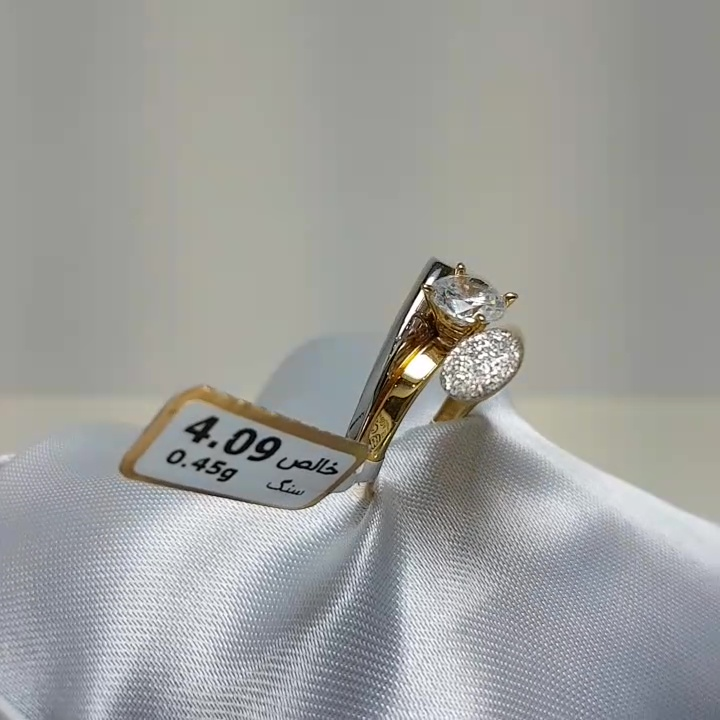Ring 7: (319, 242, 563, 524)
